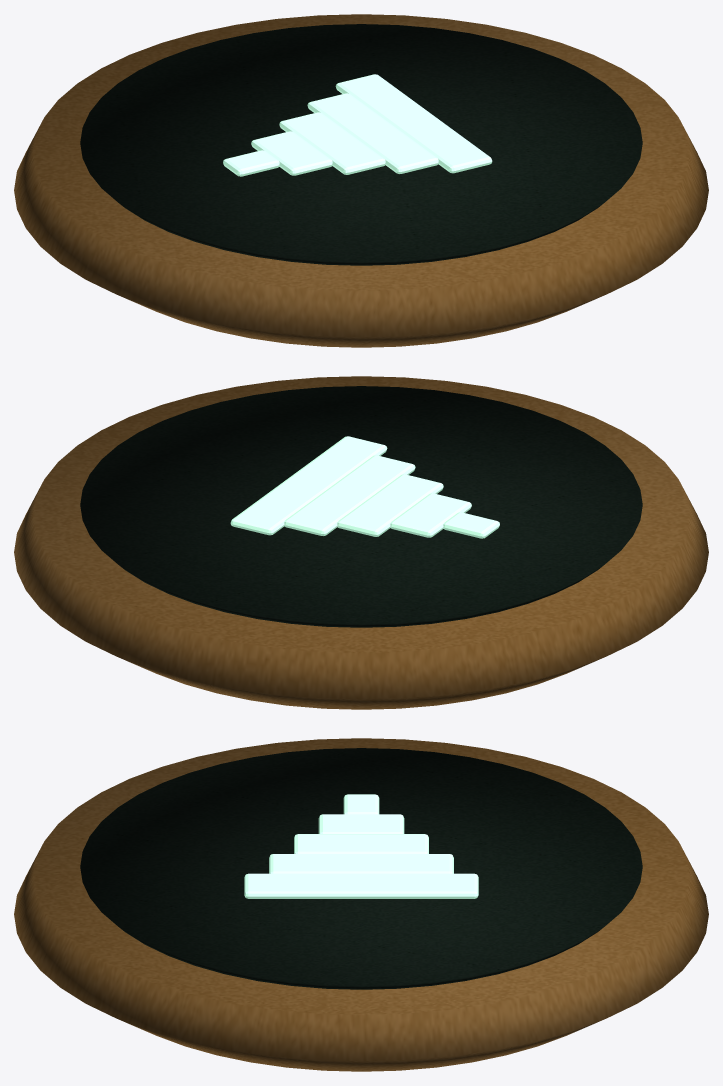
The model's file is route-impression.glb.
The picture shows the model from 3 angles, top to bottom: view 1: azimuth 30°, elevation 25°; view 2: azimuth 150°, elevation 25°; view 3: azimuth 270°, elevation 25°; orthographic projection.
Visible parts, largest first — view 1: Route imprint enamel, Route imprint rim, Route_Impression / Mineral light; view 2: Route imprint enamel, Route imprint rim, Route_Impression / Mineral light; view 3: Route imprint enamel, Route imprint rim, Route_Impression / Mineral light.
Boxes of the visible parts, <box> form: Route imprint enamel: <box>80,24,642,265</box>; Route imprint rim: <box>14,14,708,347</box>; Route_Impression / Mineral light: <box>223,74,492,176</box>; Route imprint enamel: <box>80,386,642,627</box>; Route imprint rim: <box>14,376,708,709</box>; Route_Impression / Mineral light: <box>230,436,499,538</box>; Route imprint enamel: <box>80,748,642,989</box>; Route imprint rim: <box>14,738,708,1071</box>; Route_Impression / Mineral light: <box>244,794,478,898</box>.
Size of the model in its own units: 0.252 by 0.037 by 0.252.
3 materials, 2 textured.
